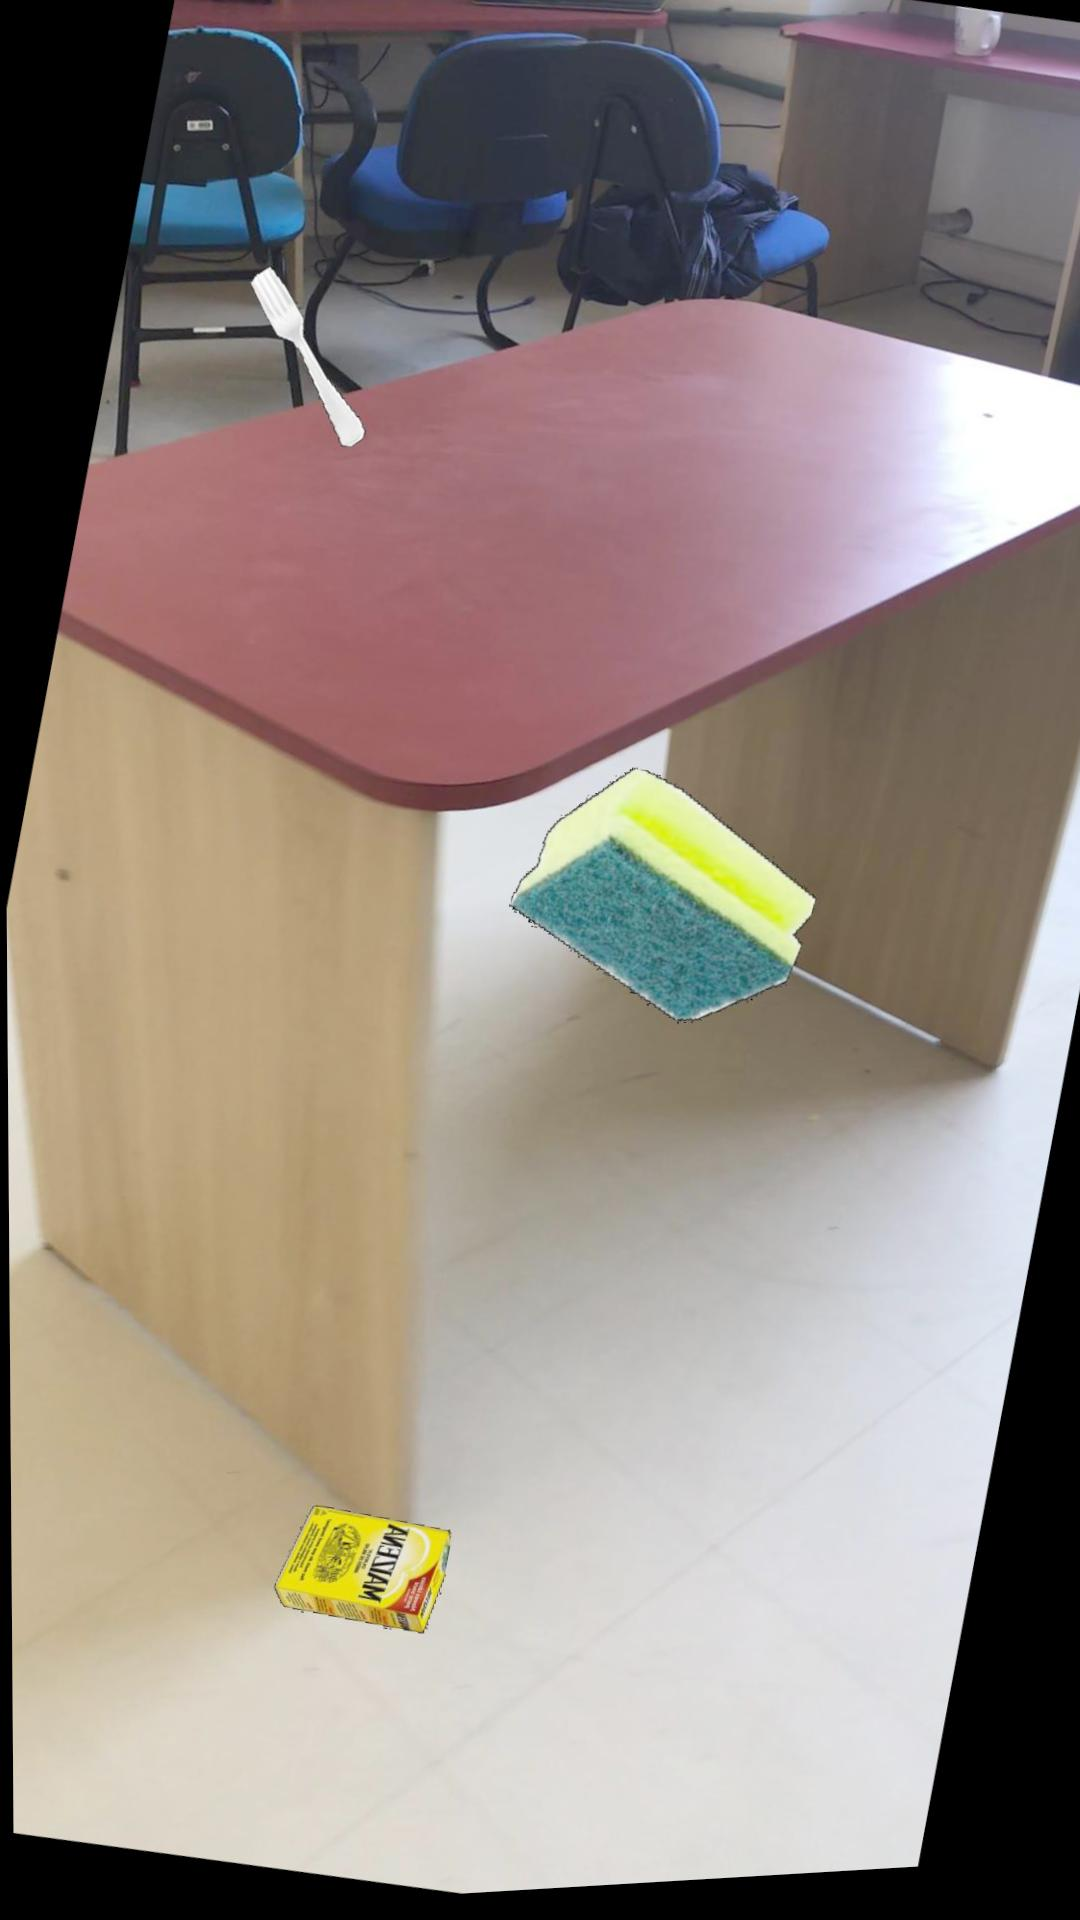fork: (248, 268, 364, 450)
sponge: (506, 774, 814, 1029)
